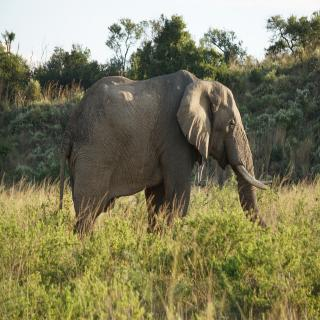Elephant: (53, 68, 284, 251)
